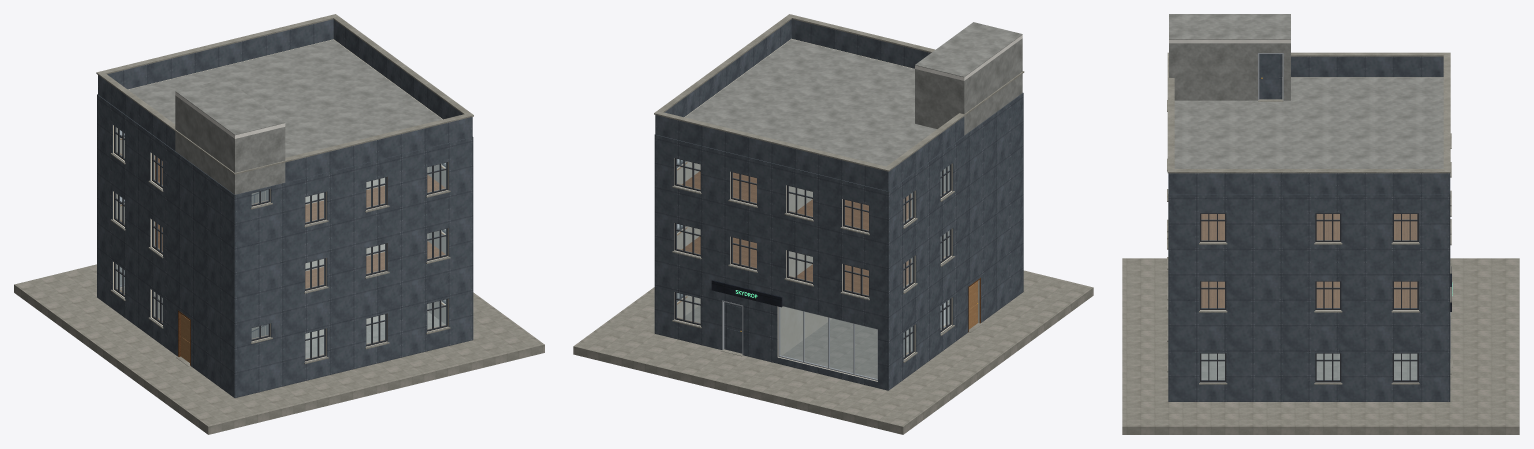
Rendered from b_drone_hub.gltf.
3 renders of one model, left to right at view 1: azimuth 30°, elevation 25°; view 2: azimuth 150°, elevation 25°; view 3: azimuth 270°, elevation 25°, orthographic. The views are drawn at different scales.
Visible parts, largest first — view 1: S_drone_hub; view 2: S_drone_hub, D_drone_hub_F1_S2_Door0; view 3: S_drone_hub, D_drone_hub_PH_W0_Door0.
Boxes of the visible parts, left/top/right/bottom form: S_drone_hub: left=14, top=14, right=544, bottom=434; S_drone_hub: left=573, top=14, right=1093, bottom=434; D_drone_hub_F1_S2_Door0: left=724, top=302, right=742, bottom=353; S_drone_hub: left=1122, top=14, right=1519, bottom=434; D_drone_hub_PH_W0_Door0: left=1259, top=54, right=1282, bottom=99.
Bounding box in the file's own units: 17 × 13.1 × 17.
Materials: 18 (11 with a texture image).
